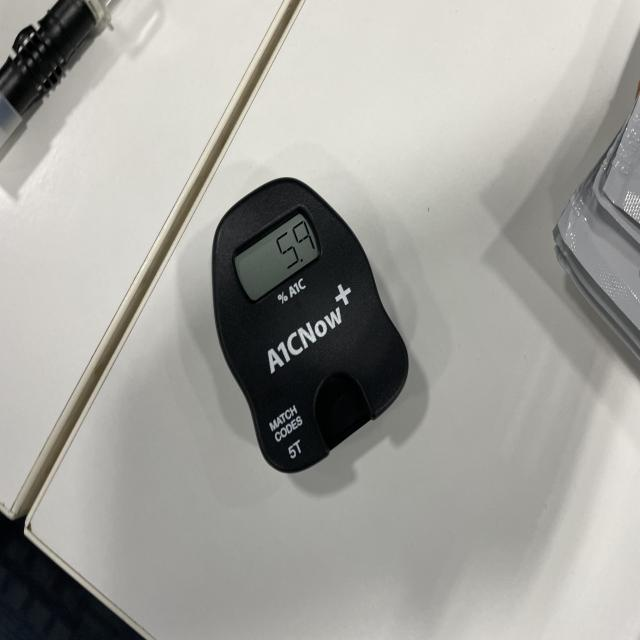hba1c: (209, 178, 412, 476)
